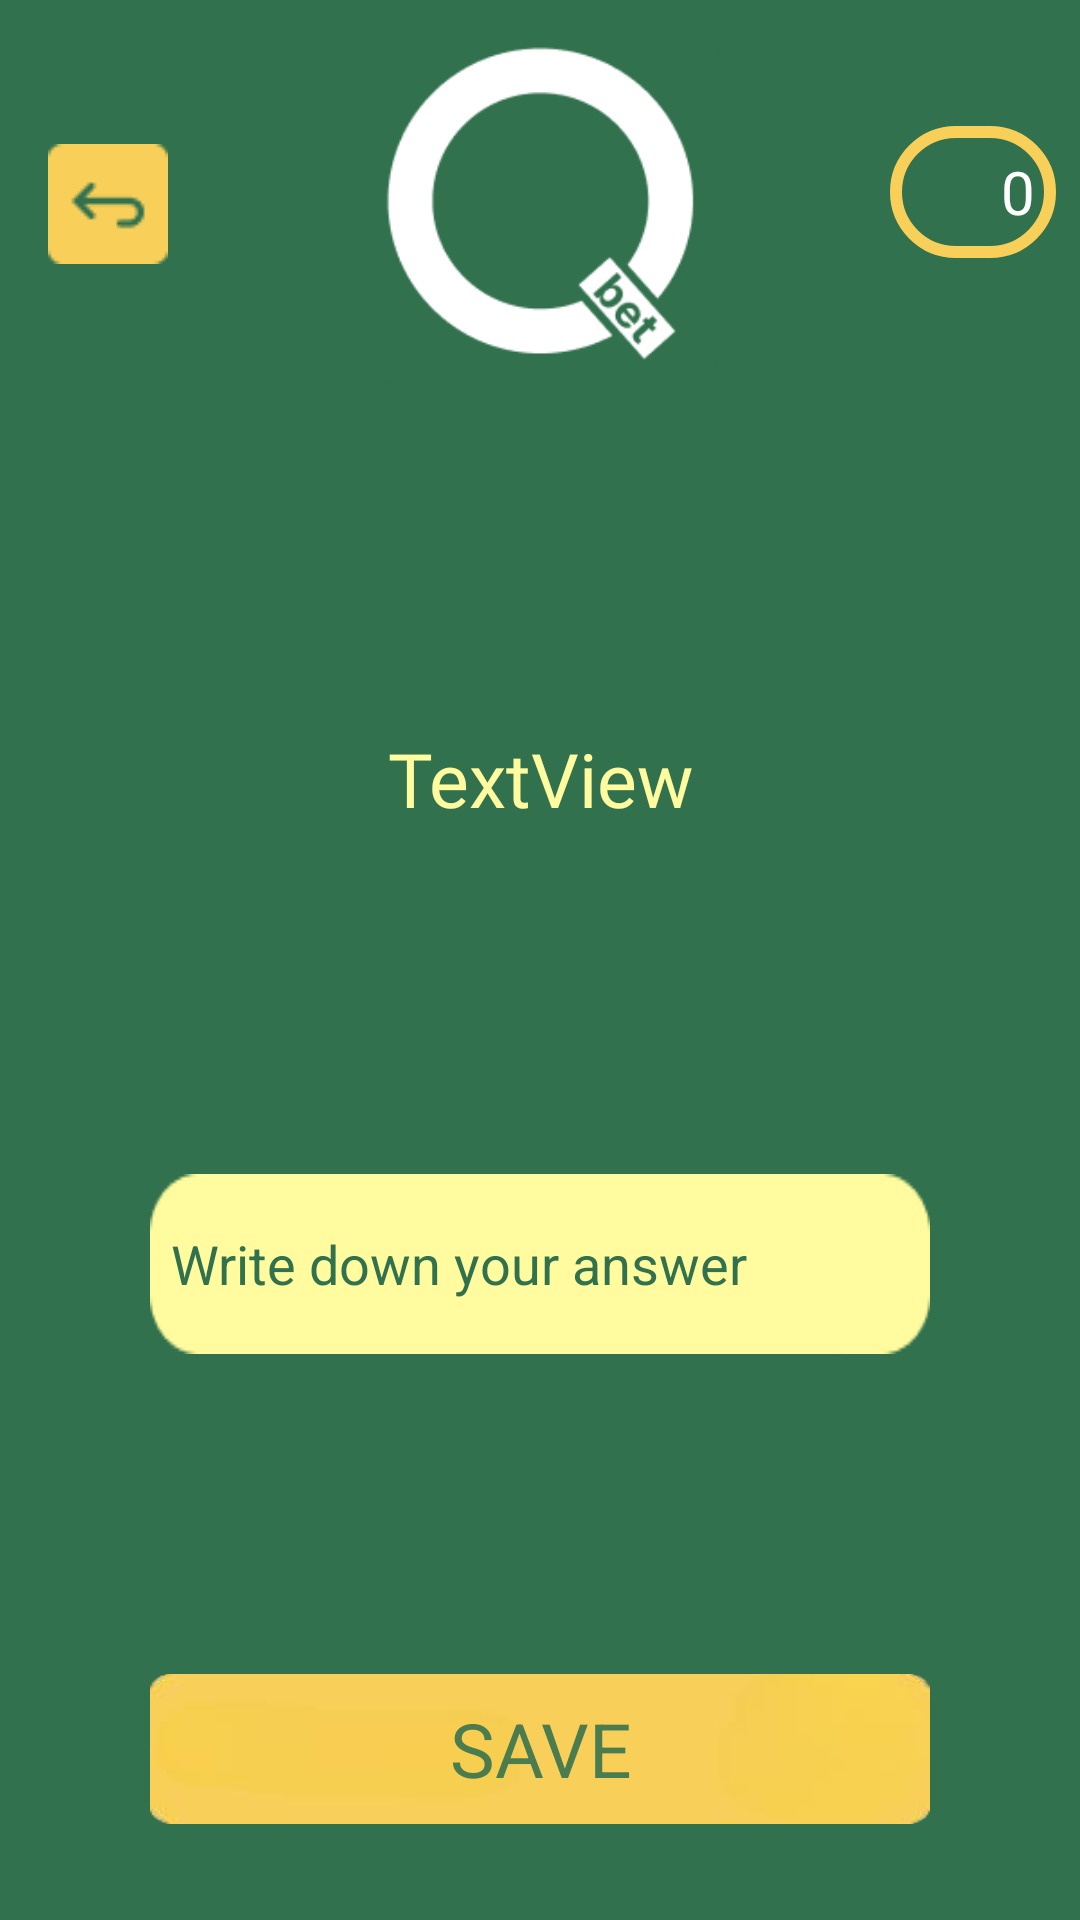

Where icons sit on this 1080w x 1920h app screen, as (x1, y1, x2, y2):
anim click for back: (48, 144, 168, 264)
